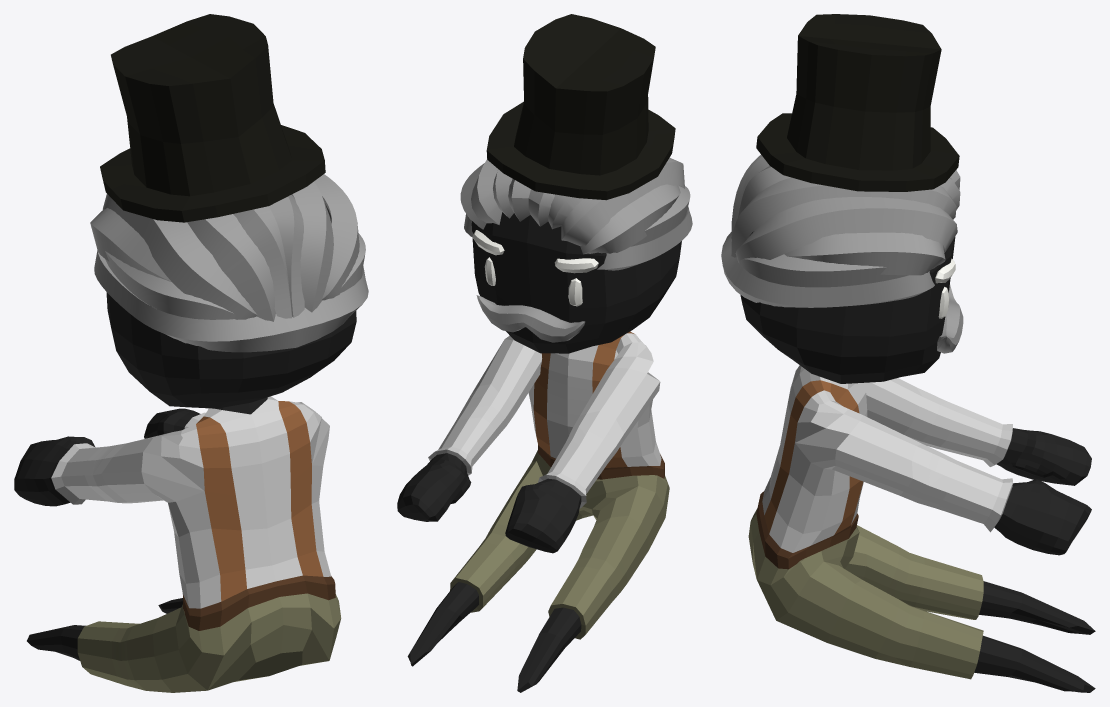
The model's file is Pilot_Wilfrid.fbx.
3 renders of one model, left to right at view 1: azimuth 30°, elevation 25°; view 2: azimuth 150°, elevation 25°; view 3: azimuth 270°, elevation 25°, orthographic. The views are drawn at different scales.
Parts seen in each view (by area): view 1: Pilot_Wilfrid; view 2: Pilot_Wilfrid; view 3: Pilot_Wilfrid.
Part boxes in pixels (<box>): Pilot_Wilfrid: <box>14,14,368,692</box>; Pilot_Wilfrid: <box>397,14,692,692</box>; Pilot_Wilfrid: <box>721,14,1095,692</box>.
Bounding box in the file's own units: 0.4517 × 1.36 × 0.7321.
